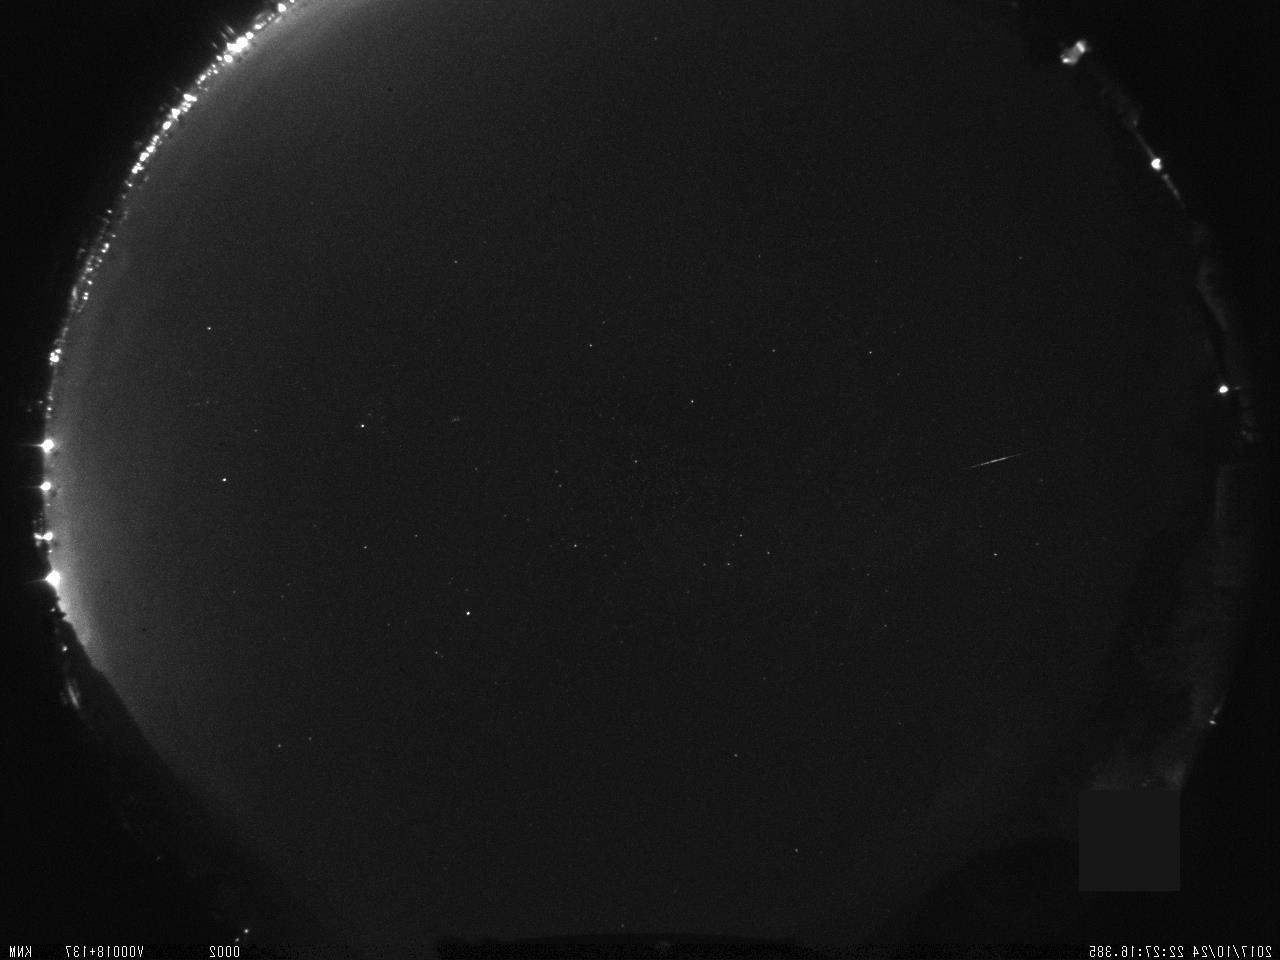meteor: (963, 441, 1023, 482)
